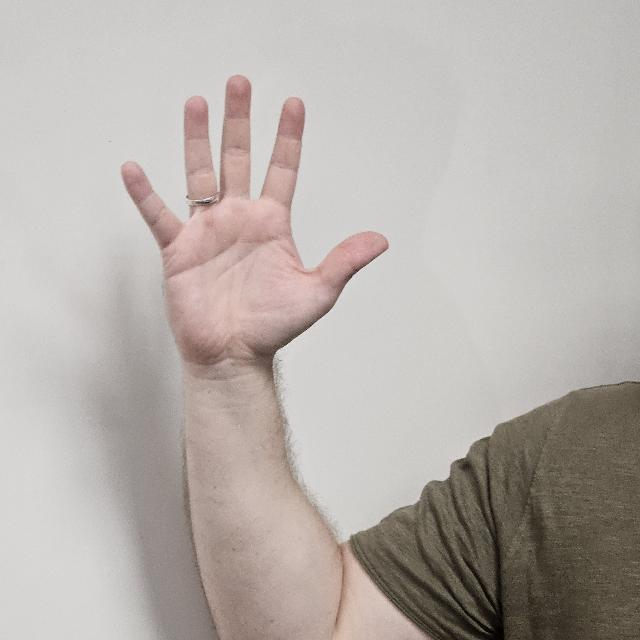X: (119, 73, 389, 400)
